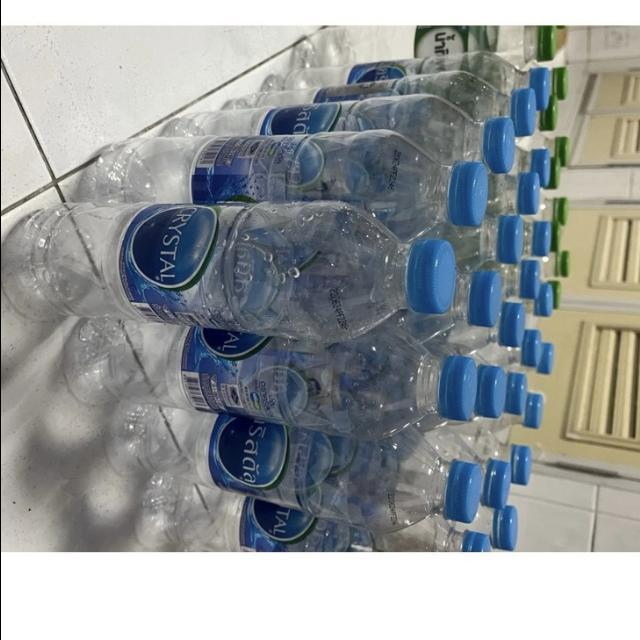PET Bottle: (430, 34, 640, 612), (0, 202, 468, 381), (16, 319, 482, 445), (55, 122, 473, 252), (94, 408, 508, 536), (131, 90, 540, 198), (270, 66, 556, 156)
